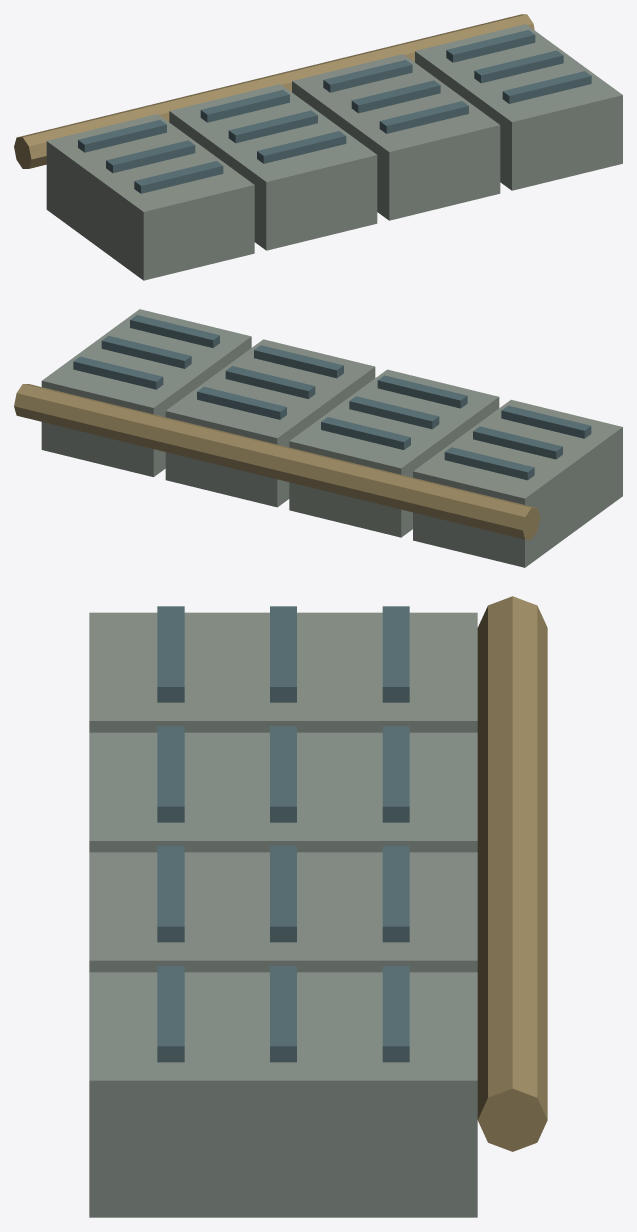
The model's file is map-exclusive-v3__iron_16.glb.
The picture shows the model from 3 angles, top to bottom: view 1: azimuth 30°, elevation 25°; view 2: azimuth 150°, elevation 25°; view 3: azimuth 270°, elevation 25°; orthographic projection. The views are drawn at different scales.
Parts seen in each view (by area): view 1: iron_16; view 2: iron_16; view 3: iron_16.
Boxes of the visible parts, x1,y1,x2,y2 form: iron_16: (14,14,622,280); iron_16: (14,309,622,567); iron_16: (89,596,547,1217).
Bounding box in the file's own units: 3 × 0.4475 × 1.18.
